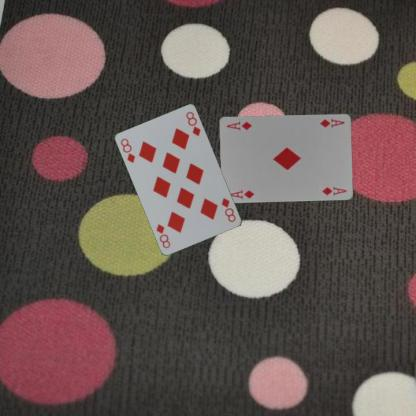8d: (118, 136, 137, 164), (219, 195, 237, 224)
Ad: (318, 115, 346, 129), (227, 187, 256, 200)
